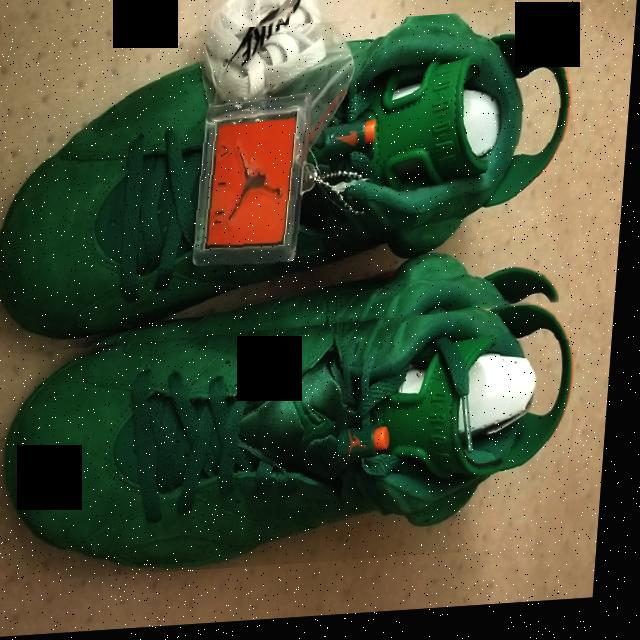shoe: (0, 13, 590, 357), (0, 258, 589, 585)
